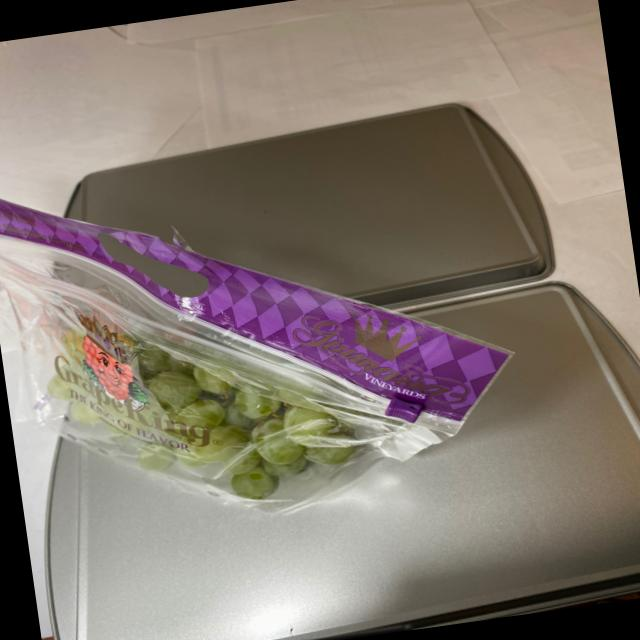grapes: (41, 292, 384, 530)
